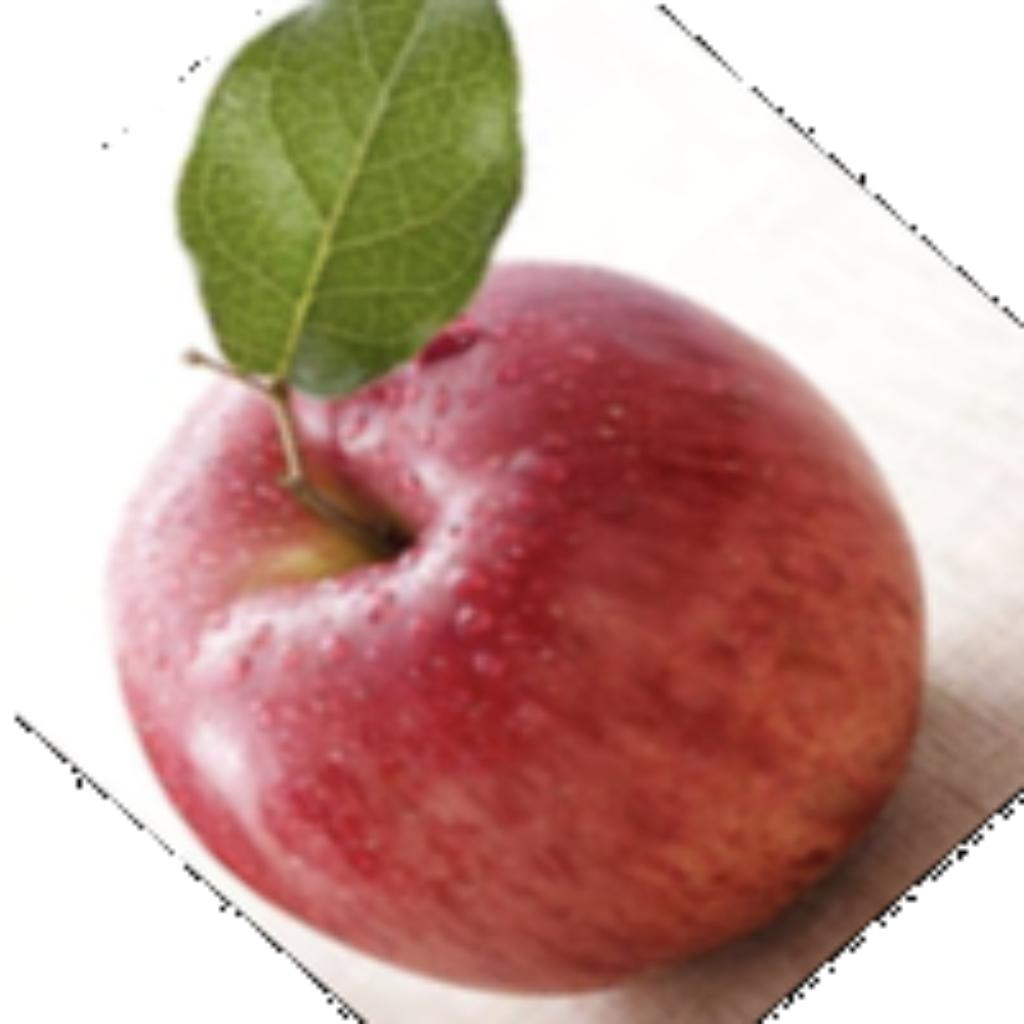apple: (97, 0, 1019, 1019)
